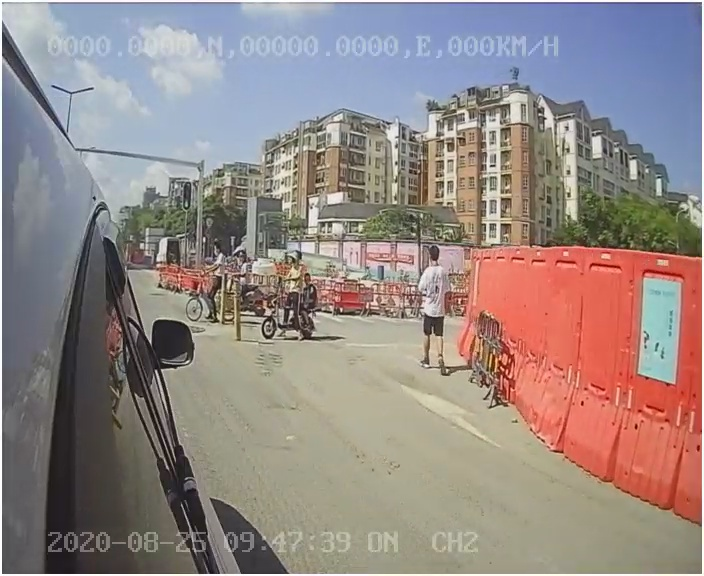person: (406, 246, 458, 383)
